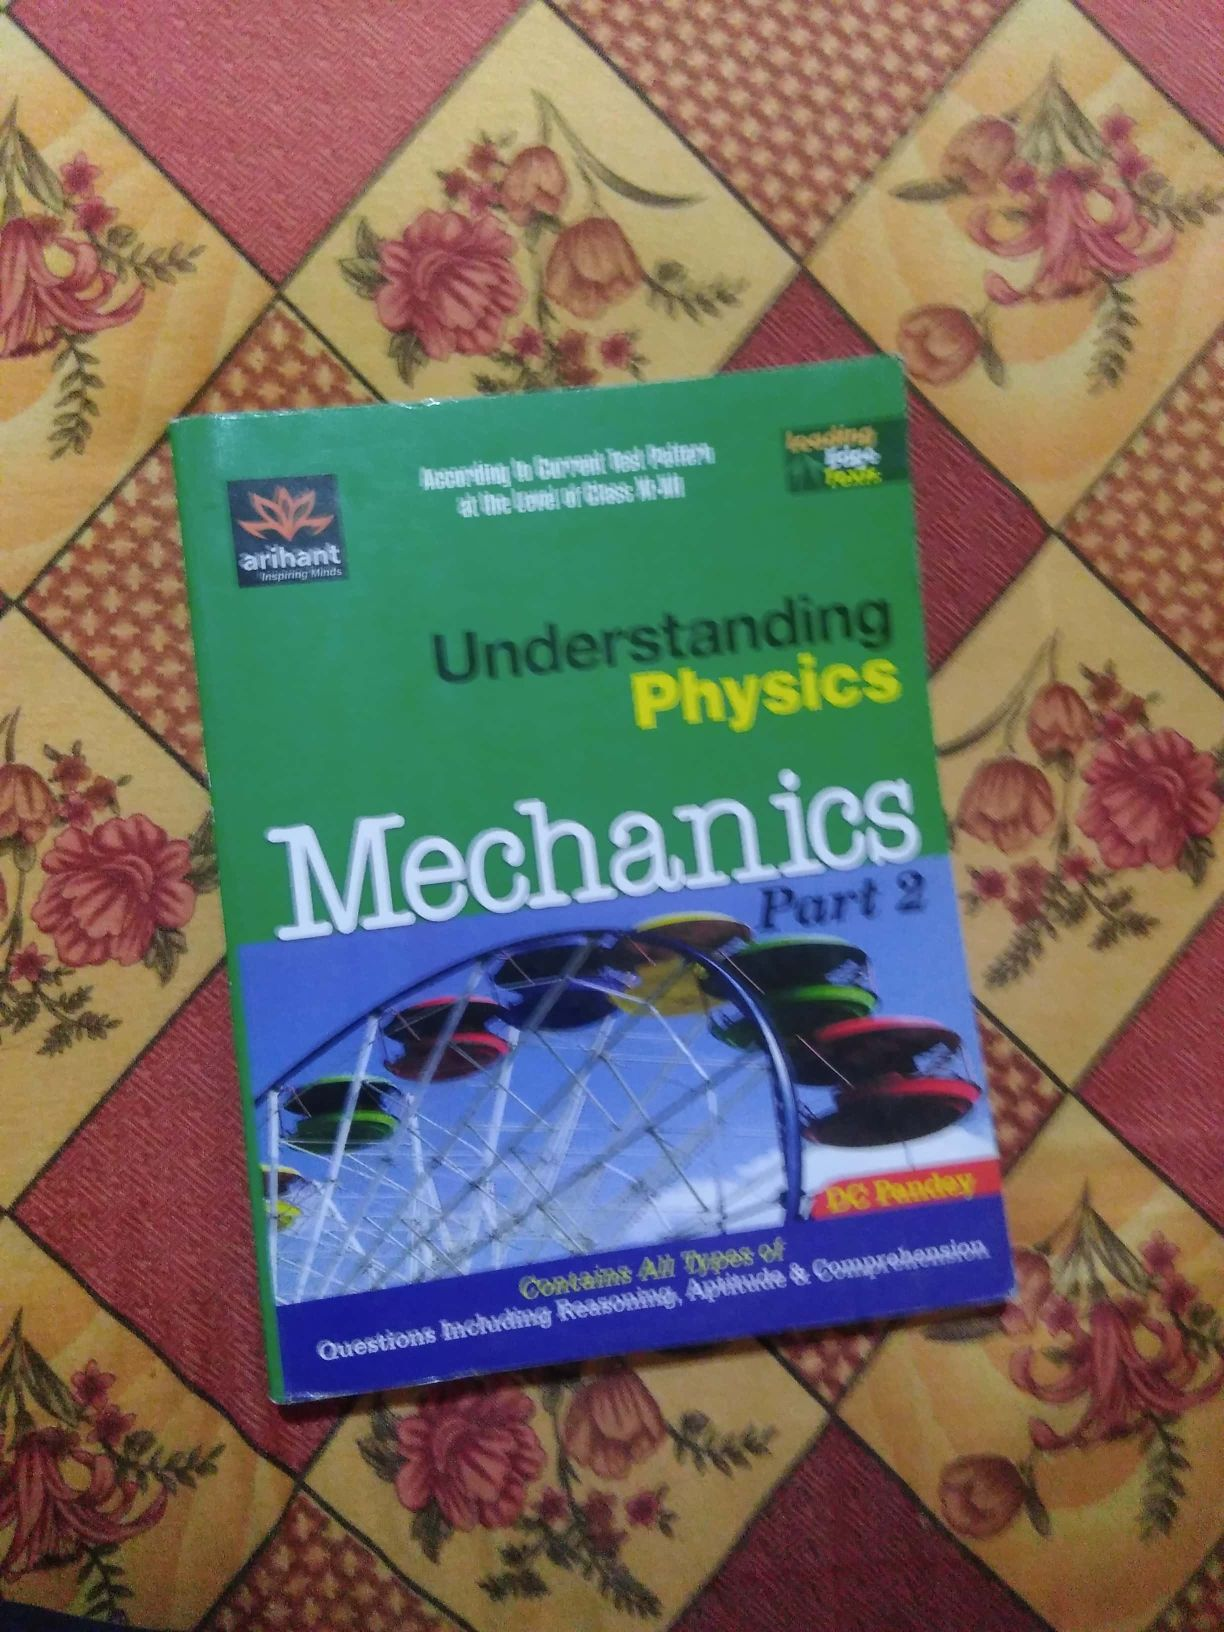mechanics: (112, 378, 1119, 1381)
